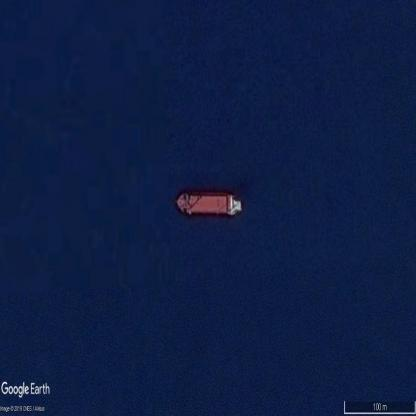ship: (176, 194, 241, 215)
